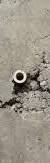Spalling: (1, 50, 50, 115)
